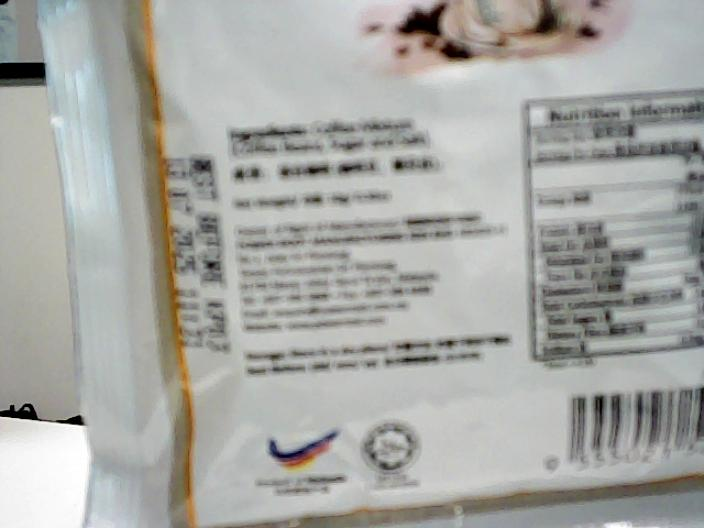Adult_Milk_0-99g_Halal_NonHealthy: (129, 1, 704, 526)
